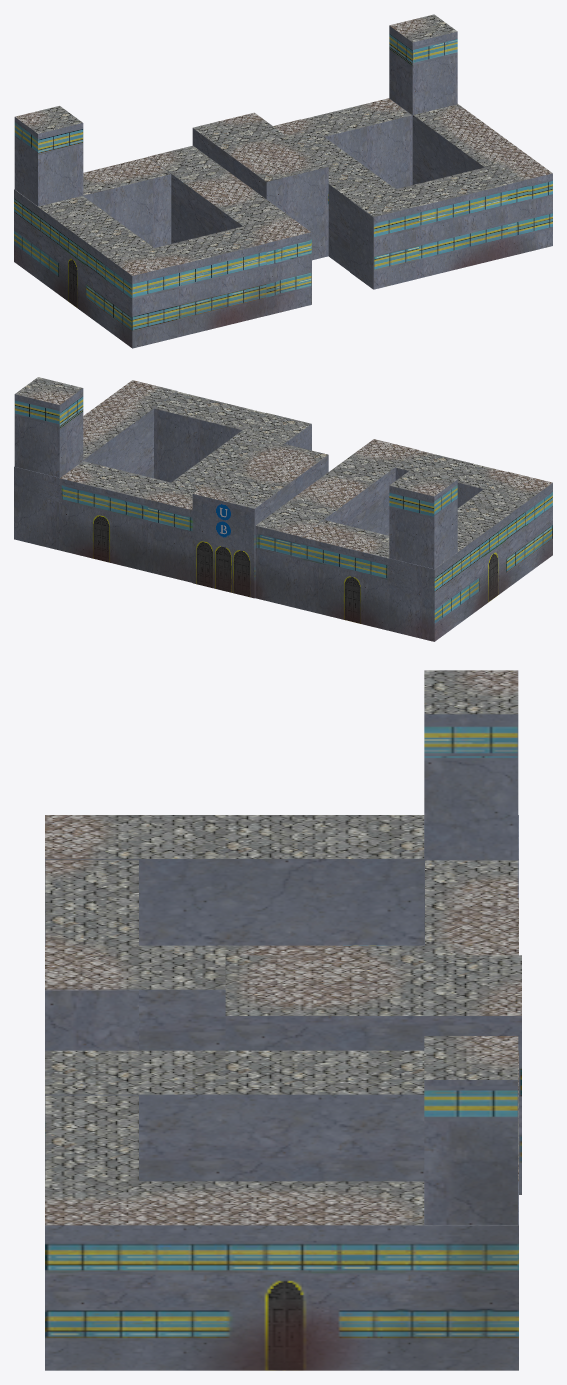
The model's file is universitatlvl3midhealth.fbx.
3 renders of one model, top to bottom at view 1: azimuth 30°, elevation 25°; view 2: azimuth 150°, elevation 25°; view 3: azimuth 270°, elevation 25°, orthographic. The views are drawn at different scales.
Parts seen in each view (by area): view 1: EntradaCentro.006; view 2: EntradaCentro.006; view 3: EntradaCentro.006.
Boxes of the visible parts, bbox=[...] form: EntradaCentro.006: bbox=[14, 14, 552, 348]; EntradaCentro.006: bbox=[14, 377, 552, 641]; EntradaCentro.006: bbox=[45, 670, 521, 1370].
Size of the model in its own units: 7867 by 2595 by 3863.
